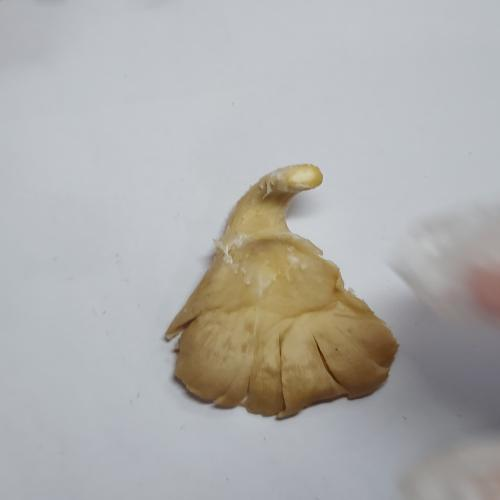Oyster Mushroom: (115, 154, 411, 463)
